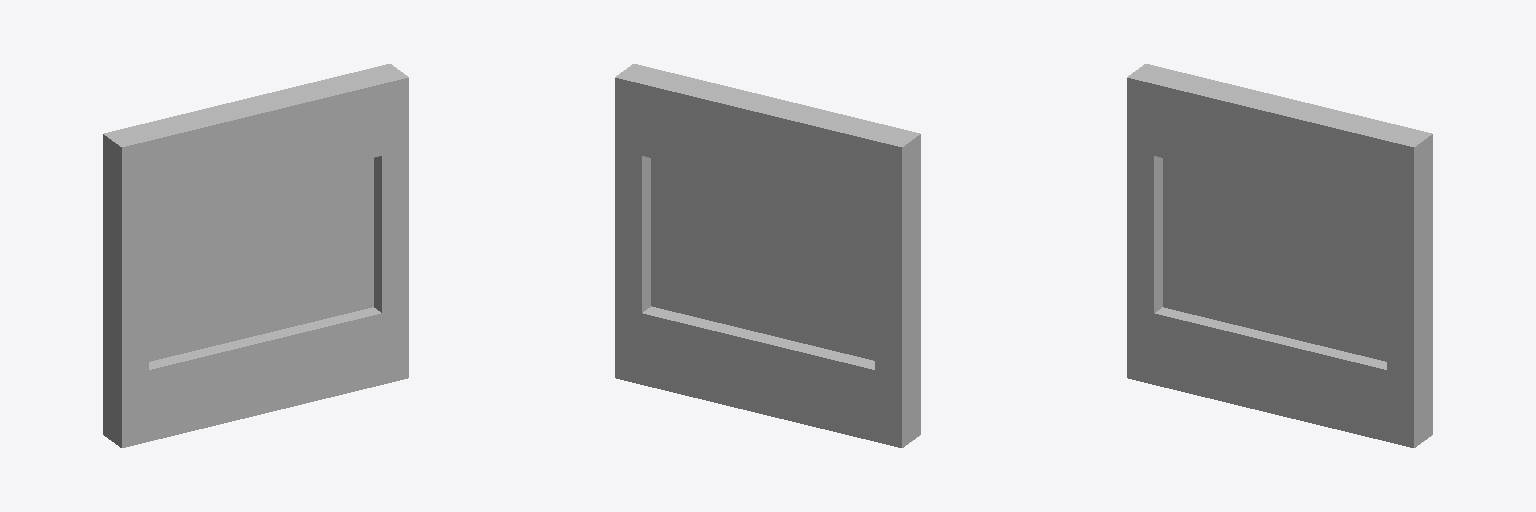
Rendered from concrete_double_window.obj.
The picture shows the model from 3 angles: view 1: azimuth 30°, elevation 25°; view 2: azimuth 150°, elevation 25°; view 3: azimuth 330°, elevation 25°; orthographic projection.
Visible parts, largest first — view 1: concrete_double_window.001; view 2: concrete_double_window.001; view 3: concrete_double_window.001.
Part boxes in pixels (left/top/right/bottom): concrete_double_window.001: left=103, top=64, right=408, bottom=447; concrete_double_window.001: left=615, top=64, right=920, bottom=447; concrete_double_window.001: left=1127, top=64, right=1432, bottom=447.
Size of the model in its own units: 3.5 by 3.5 by 0.4.